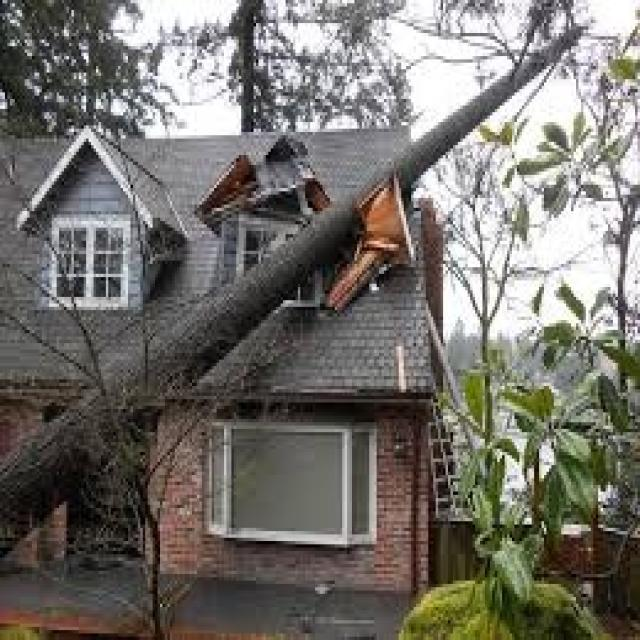fallen_object: (0, 0, 588, 570)
